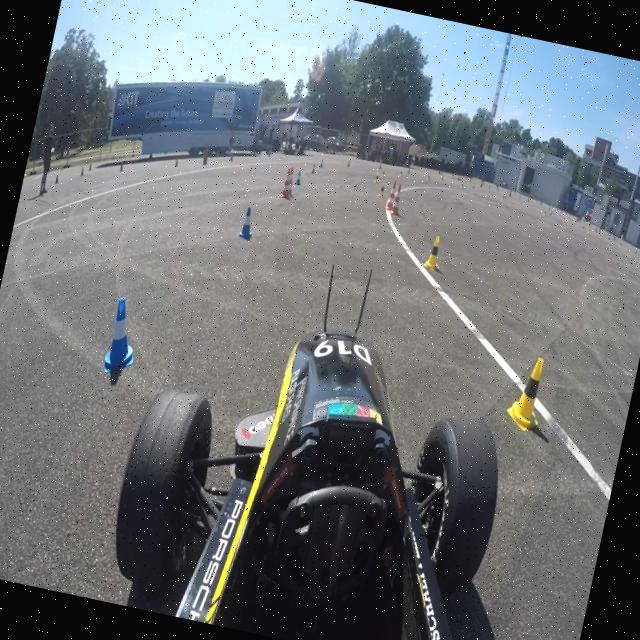blue_cone: (90, 292, 148, 378), (232, 200, 260, 244)
large_orange_cone: (383, 177, 408, 216), (278, 164, 300, 202)
yellow_cone: (499, 345, 552, 433), (420, 230, 446, 276)
